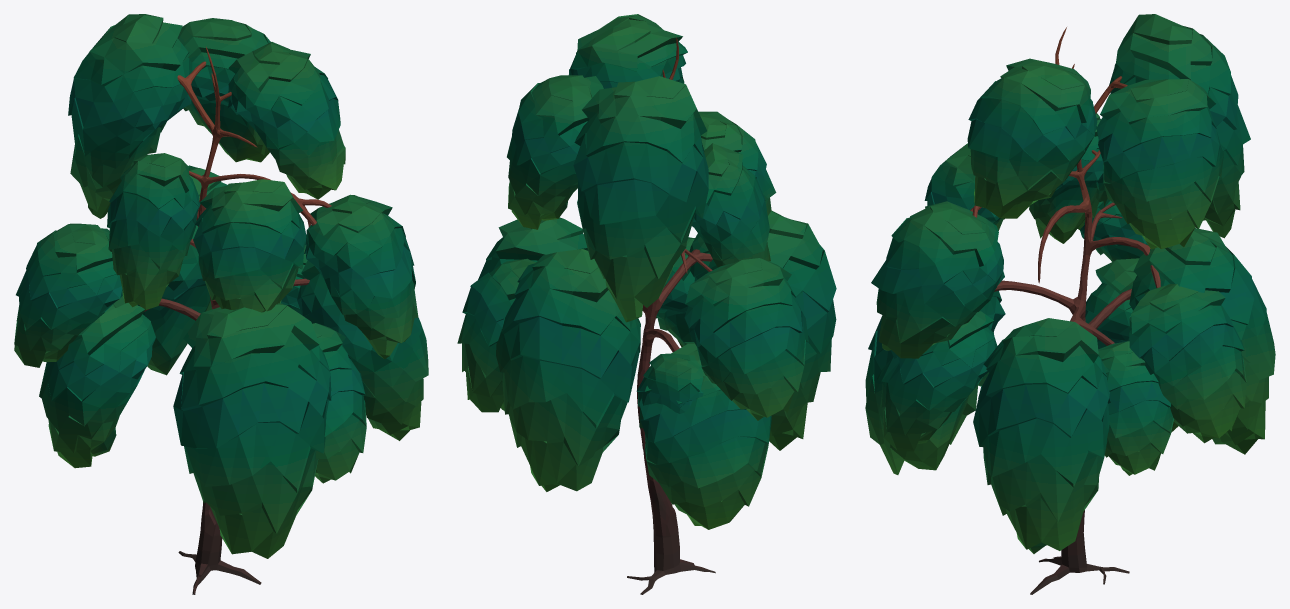
File: tree_metapod_mod_01.fbx
3 renders of one model, left to right at view 1: azimuth 30°, elevation 25°; view 2: azimuth 150°, elevation 25°; view 3: azimuth 270°, elevation 25°, orthographic. The views are drawn at different scales.
Parts seen in each view (by area): view 1: Cube.001, Cube; view 2: Cube.001, Cube; view 3: Cube.001, Cube.
Part boxes in pixels (x1,y1,x2,y2): Cube.001: [14, 14, 428, 558]; Cube: [140, 46, 331, 594]; Cube.001: [457, 14, 836, 529]; Cube: [627, 37, 715, 594]; Cube.001: [865, 14, 1275, 553]; Cube: [970, 27, 1160, 594].
Bounding box in the file's own units: 7.3 × 6.92 × 10.23.
